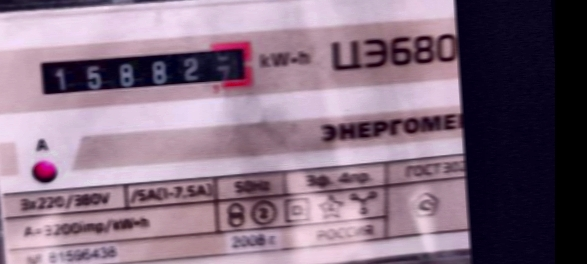1: (53, 64, 68, 90)
2: (182, 54, 199, 79)
5: (85, 61, 102, 88)
7: (216, 60, 231, 79)
8: (118, 60, 135, 87), (150, 57, 167, 83)
screen: (25, 31, 262, 108)
